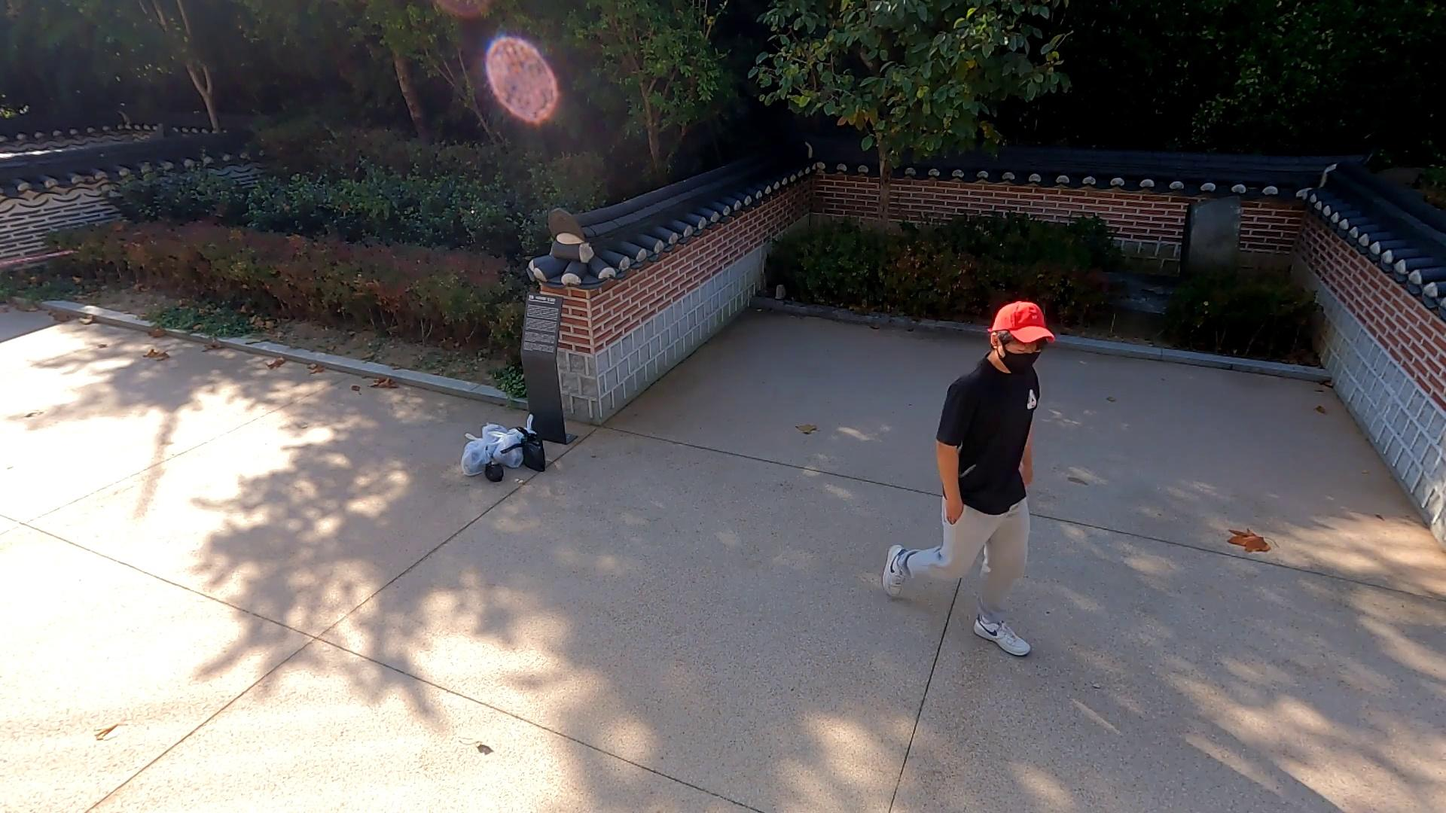person: (884, 301, 1054, 658)
trash: (490, 430, 526, 469), (461, 432, 492, 477), (516, 427, 546, 472), (481, 421, 511, 464), (483, 461, 504, 483)
